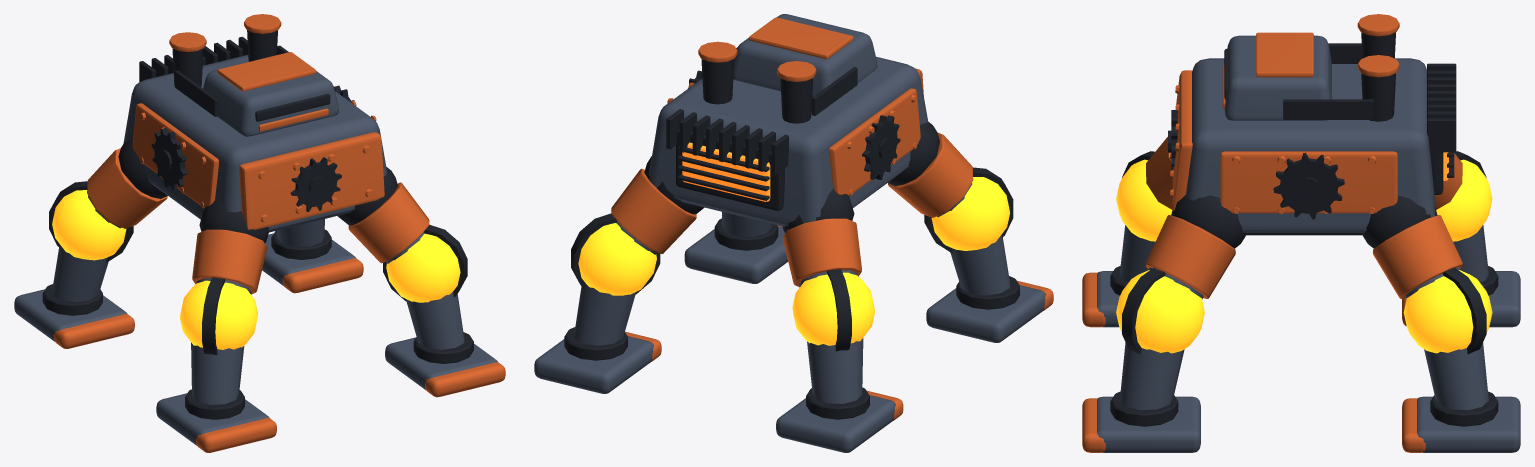
File: colossus.fbx
The picture shows the model from 3 angles, left to right: view 1: azimuth 30°, elevation 25°; view 2: azimuth 150°, elevation 25°; view 3: azimuth 270°, elevation 25°; orthographic projection. The views are drawn at different scales.
Visible parts, largest first — view 1: Plates, Body, Dark, Joint_2, Joint_1, Joint_3; view 2: Body, Dark, Plates, Joint_4, Joint_3, Joint_1, Core; view 3: Body, Plates, Dark, Joint_4, Joint_2, Joint_3, Joint_1.
Part boxes in pixels (left/top/right/bottom): Plates: left=54, top=14, right=505, bottom=452; Body: left=14, top=55, right=497, bottom=445; Dark: left=42, top=30, right=473, bottom=419; Joint_2: left=386, top=233, right=460, bottom=302; Joint_1: left=180, top=280, right=257, bottom=349; Joint_3: left=52, top=190, right=126, bottom=260; Body: left=534, top=14, right=1046, bottom=452; Dark: left=564, top=47, right=1019, bottom=419; Plates: left=611, top=17, right=1053, bottom=420; Joint_4: left=578, top=223, right=656, bottom=295; Joint_3: left=792, top=272, right=874, bottom=345; Joint_1: left=931, top=177, right=1009, bottom=250; Core: left=682, top=142, right=770, bottom=201; Body: left=1097, top=35, right=1520, bottom=452; Plates: left=1082, top=14, right=1462, bottom=452; Dark: left=1110, top=32, right=1498, bottom=426; Joint_4: left=1403, top=270, right=1492, bottom=353; Joint_2: left=1116, top=270, right=1204, bottom=353; Joint_3: left=1436, top=159, right=1492, bottom=241; Joint_1: left=1116, top=159, right=1172, bottom=241.
Size of the model in its own units: 24.3 by 22.55 by 27.15.
